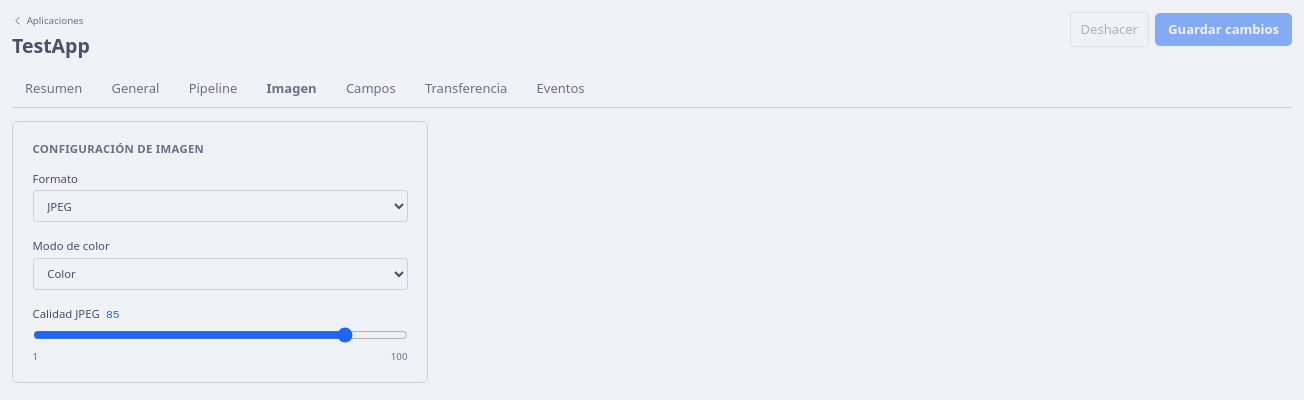
Test: ImageConfigEditorView › muestra Calidad JPEG cuando format=jpg y la oculta cuando format=tiff
Check: the element with test id "section-jpeg-quality" is shown, box [32,306,408,363]
Select "TIFF" in the dropdown with test id "select-format" at (220, 206), box [32,190,408,222]
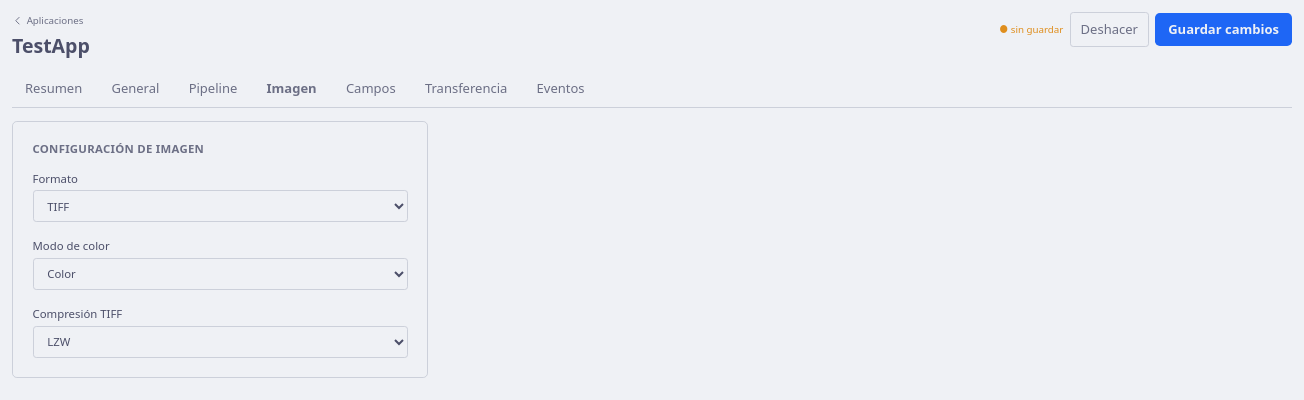
Check: the element with test id "section-tiff-compression" is shown, box [32,306,408,358]
